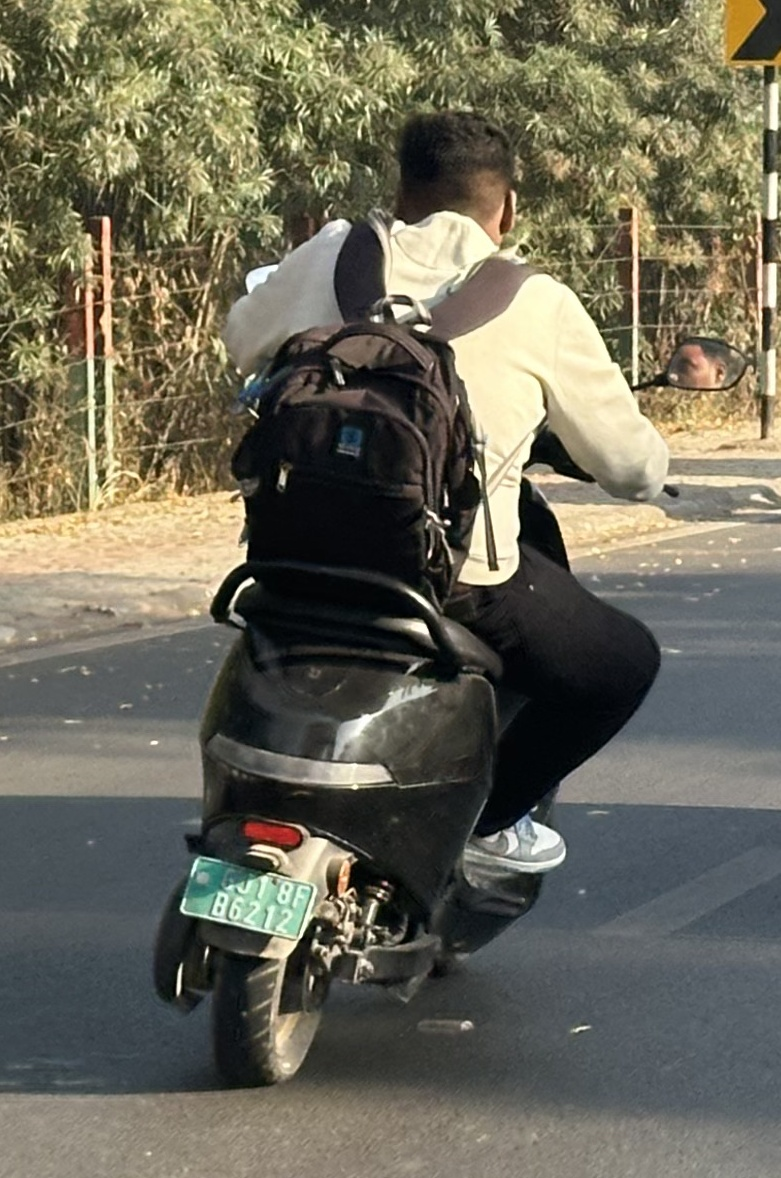BikeWithRider: (116, 46, 755, 1096)
NoHelmet: (379, 107, 555, 258)
